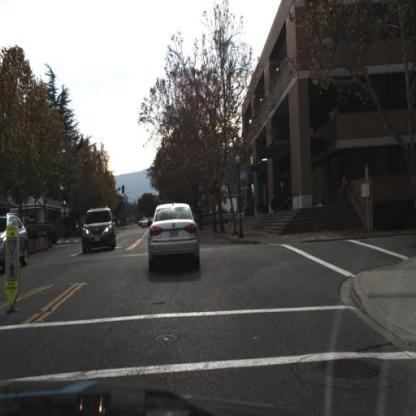car: (148, 202, 201, 275), (1, 209, 31, 271), (81, 206, 118, 254), (35, 223, 62, 250), (142, 219, 150, 229)
pedestrian: (341, 171, 348, 204)
